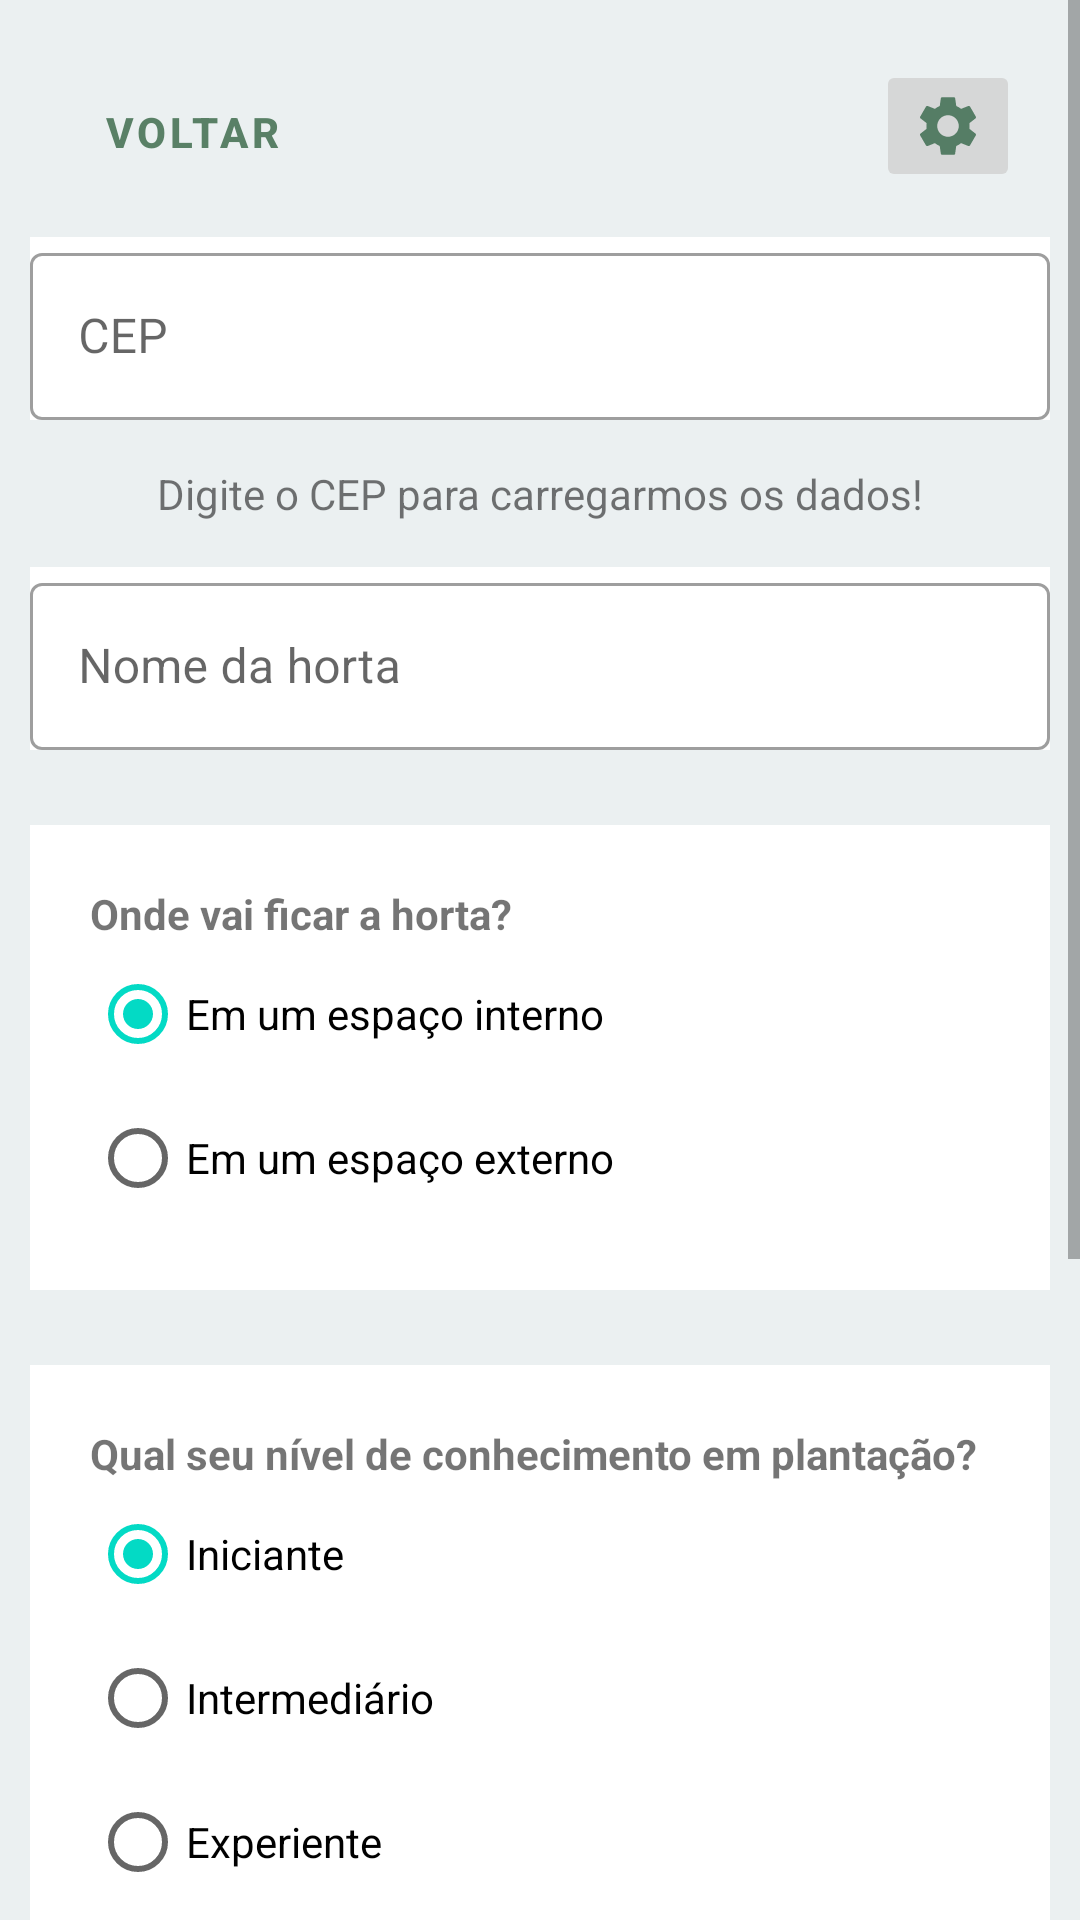

Screen size 1080×1920. Icon name, then its box in pixels as box=[x1, y1, x2, y2]:
settings: box=[888, 78, 1008, 174]
